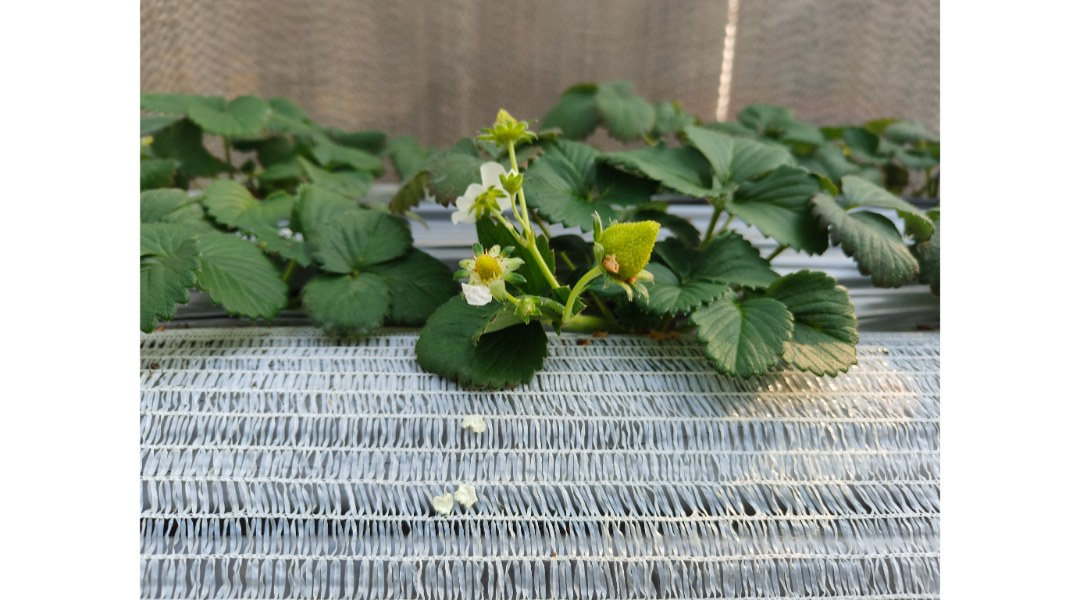berry: (585, 201, 673, 298), (470, 107, 535, 155)
flower: (451, 155, 528, 228), (449, 243, 519, 307)
strain: (533, 246, 559, 306)
